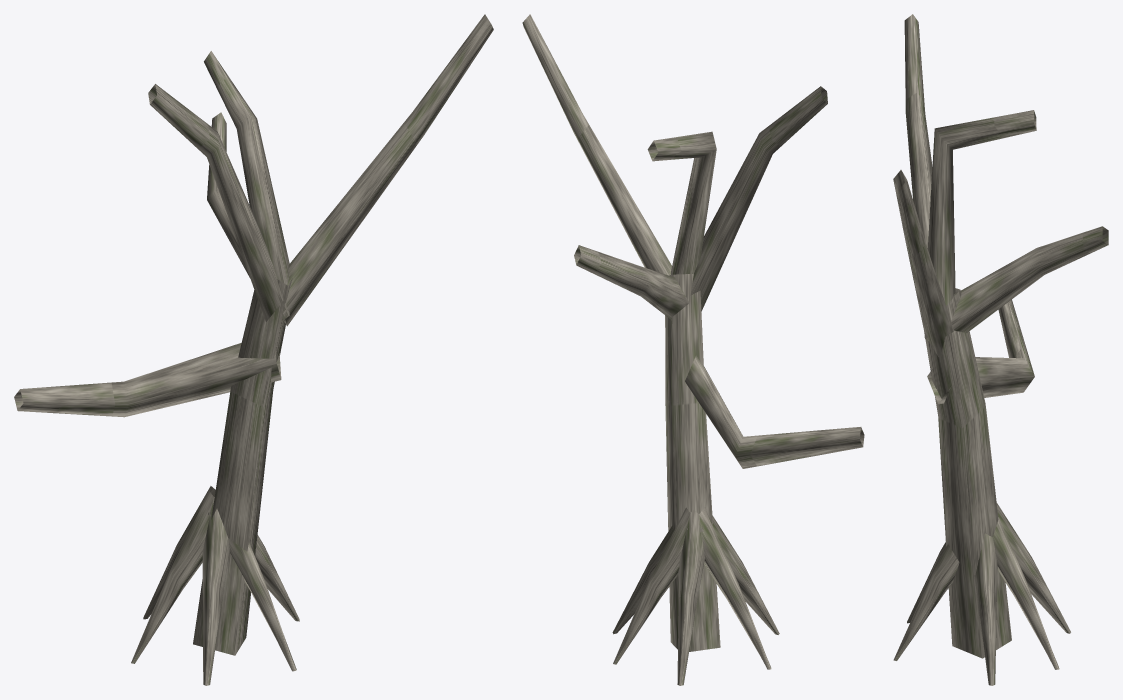
The model's file is DeadTree_1_LOD2.gltf.
The picture shows the model from 3 angles, left to right: view 1: azimuth 30°, elevation 25°; view 2: azimuth 150°, elevation 25°; view 3: azimuth 270°, elevation 25°; orthographic projection. The views are drawn at different scales.
Visible parts, largest first — view 1: DeadTree_1_LOD2; view 2: DeadTree_1_LOD2; view 3: DeadTree_1_LOD2.
Part boxes in pixels (x1=…): DeadTree_1_LOD2: x1=14, y1=14, x2=493, y2=685; DeadTree_1_LOD2: x1=522, y1=14, x2=864, y2=685; DeadTree_1_LOD2: x1=893, y1=14, x2=1108, y2=685.
Size of the model in its own units: 6.76 by 9.33 by 3.11.
1 material, 1 textured.
